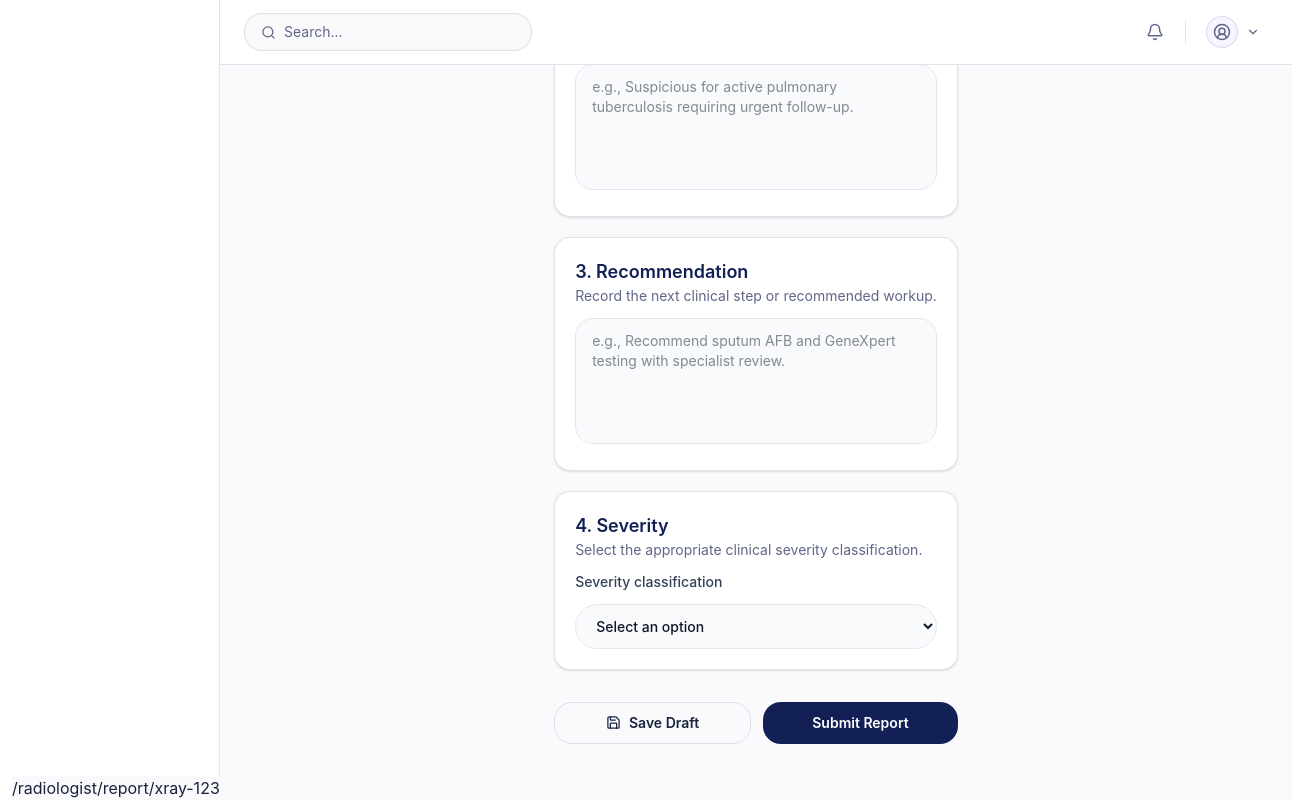
ReportWritePage › blocks an empty submit with validation errors and no save request
The image size is (1292, 800).
(page scrolled)
Step 1. Click the button "Submit Report" → coordinates (860, 722), box x1=763 y1=702 x2=958 y2=744
(page scrolled)
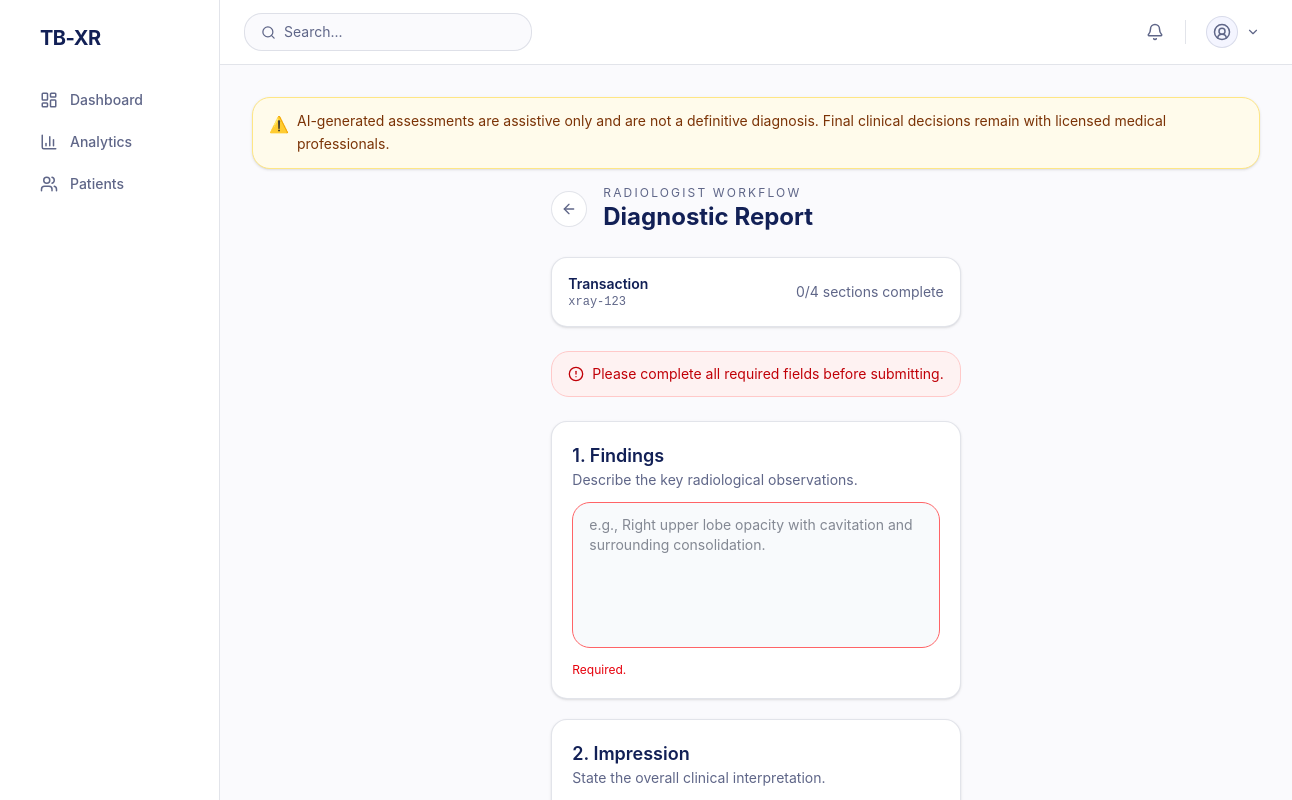
Expected: the text "Required." is shown 4 times
Expected: the text "Please complete all required fields before submitting." is shown, x1=592 y1=364 x2=944 y2=384
